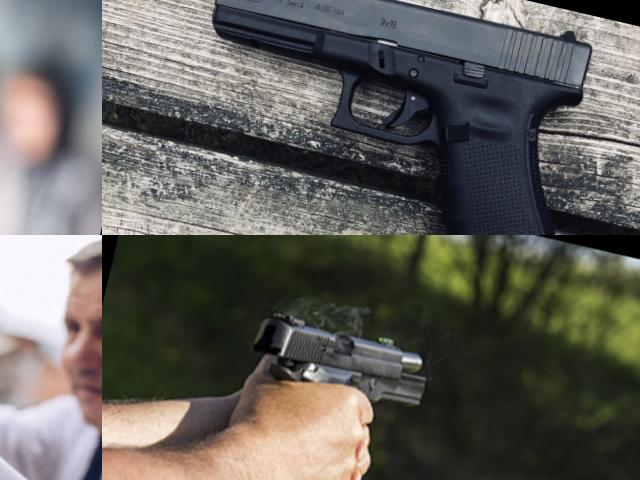handgun: (155, 0, 620, 235), (226, 301, 438, 469), (0, 235, 102, 404), (0, 25, 82, 235)
